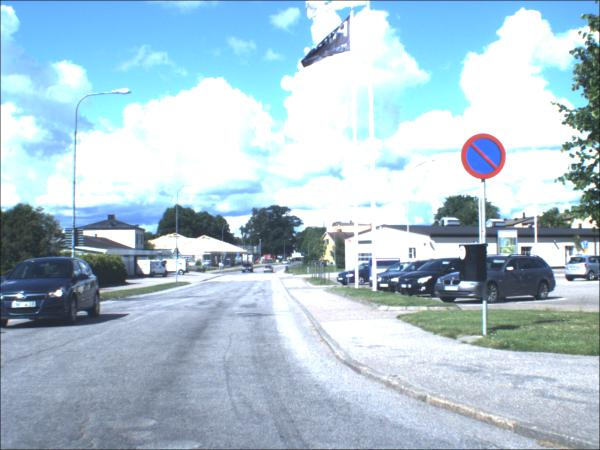NO_PARKING: (462, 135, 509, 183)
PRIORITY_ROAD: (289, 258, 293, 262)
